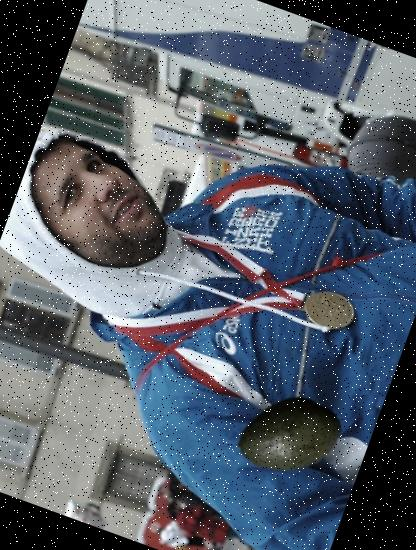Avocado: (220, 366, 356, 501)
